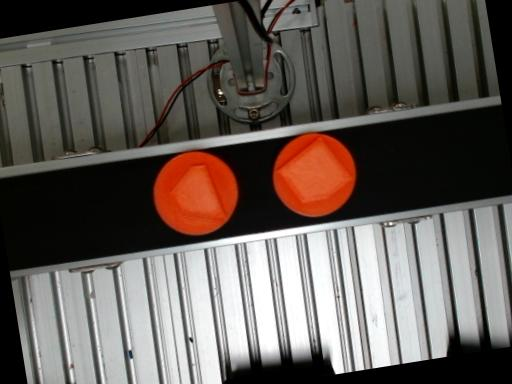Not_Square: (277, 136, 353, 203), (170, 165, 227, 218)
Orange_Waper: (153, 151, 237, 235), (272, 133, 356, 216)
